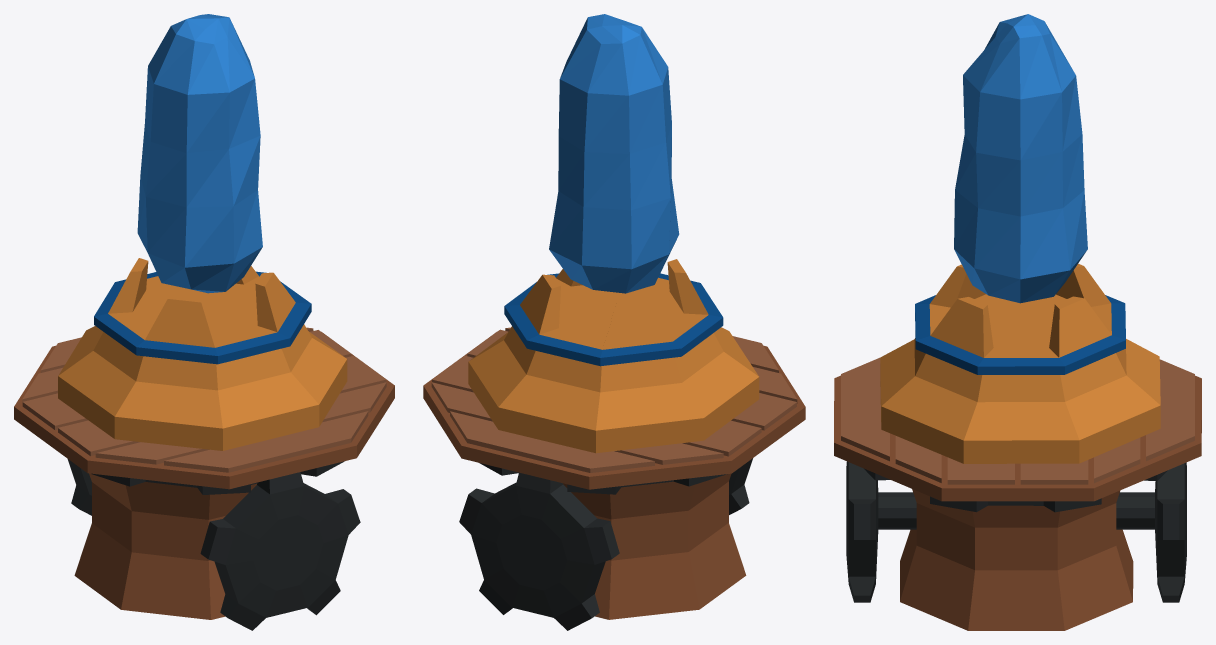
File: Support Level 1.FBX
3 views of the same model, side by side, from view 1: azimuth 30°, elevation 25°; view 2: azimuth 150°, elevation 25°; view 3: azimuth 270°, elevation 25° (orthographic). The views are drawn at different scales.
Parts seen in each view (by area): view 1: MagicCrystal.001; view 2: MagicCrystal.001; view 3: MagicCrystal.001.
Part boxes in pixels (x1,y1,x2,y2): MagicCrystal.001: (14,14,394,630); MagicCrystal.001: (423,14,805,630); MagicCrystal.001: (834,14,1201,630).
Size of the model in its own units: 195 by 331 by 195.
Materials: 1 (1 with a texture image).
